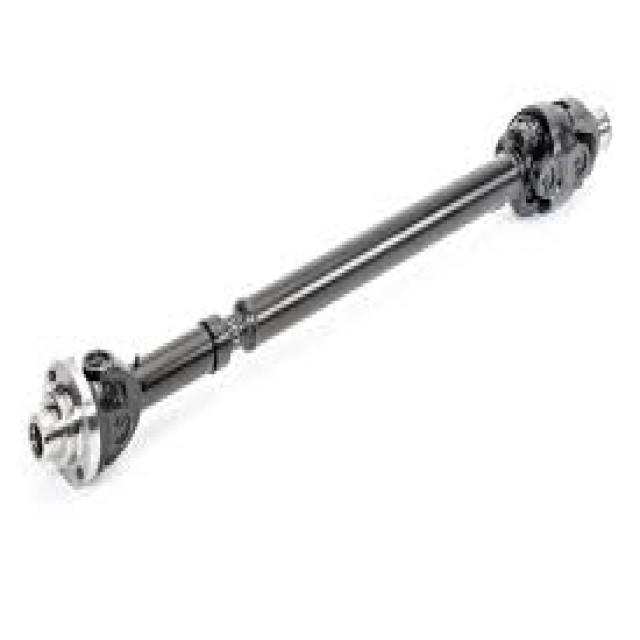Turning: (1, 60, 636, 598)
